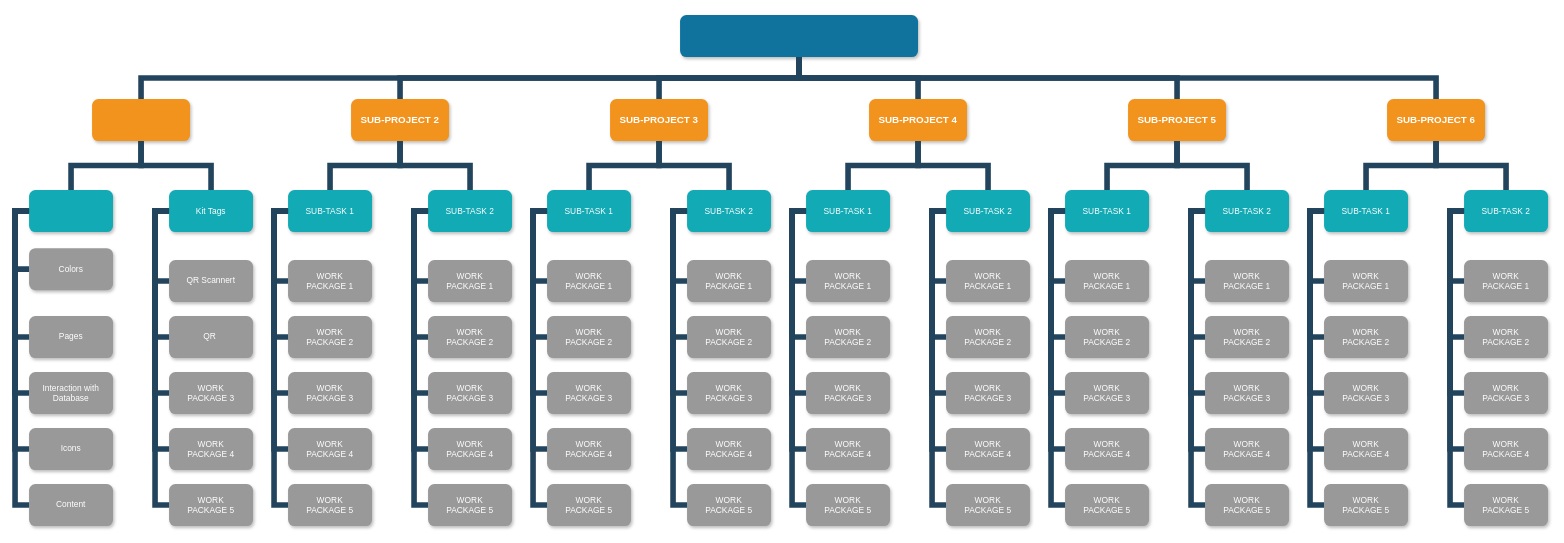
This 1564x543 diagram has some shape labels left out. Each missing label, with the centre of its shape:
Front end: the point at 141,121
Kit Logger: the point at 799,37
Website: the point at 71,212
